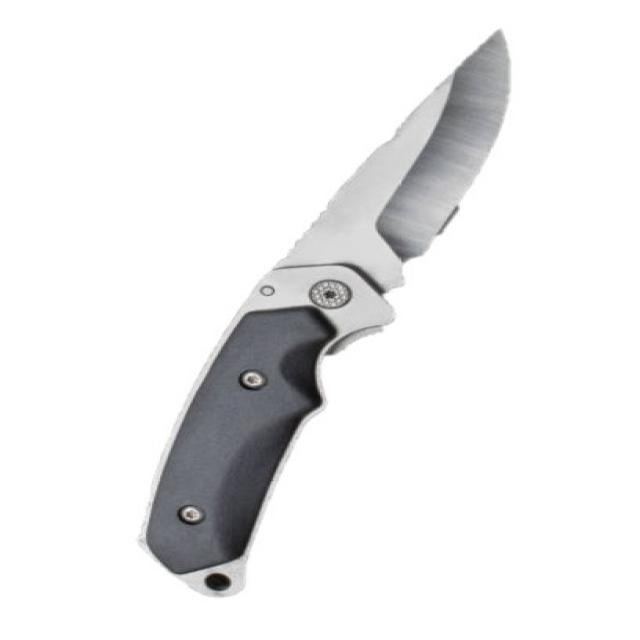knife: (142, 24, 519, 609)
